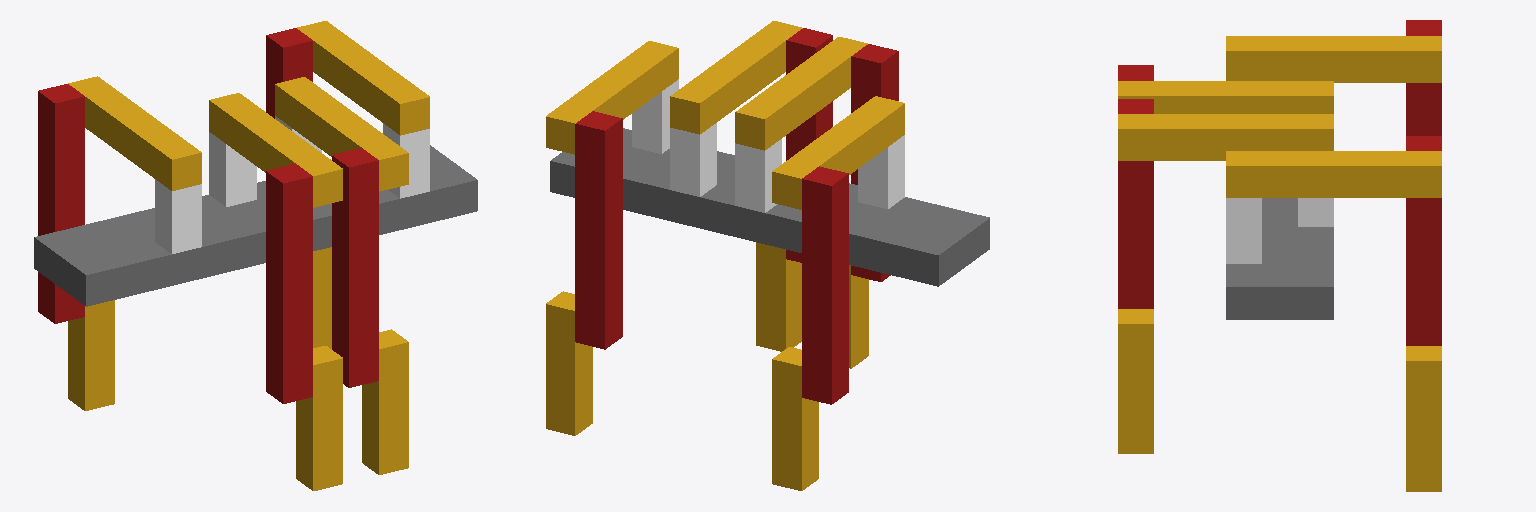
The robot description file, URDF, robot "v0":
<?xml version="1.0" encoding="utf-8"?>
<!-- =================================================================================== -->
<!-- |    This document was autogenerated by xacro from ../robots/v0variants/xacros/v0_4l_4.xacro | -->
<!-- |    EDITING THIS FILE BY HAND IS NOT RECOMMENDED                                 | -->
<!-- =================================================================================== -->
<robot name="v0">
  <material name="grey">
    <color rgba="0.5 0.5 0.5 1"/>
  </material>
  <material name="white">
    <color rgba="1 1 1 1"/>
  </material>
  <material name="yellow">
    <color rgba="0.91 0.7 0.14 1"/>
  </material>
  <material name="red">
    <color rgba="0.71 0.14 0.14 1"/>
  </material>
  <link name="body">
    <visual>
      <geometry>
        <box size="1.3 0.3 0.1"/>
      </geometry>
      <material name="grey"/>
      <origin rpy="0 0 0" xyz="0 0 0.7"/>
    </visual>
    <collision>
      <geometry>
        <box size="1.3 0.3 0.1"/>
      </geometry>
      <origin rpy="0 0 0" xyz="0 0 0.7"/>
    </collision>
    <inertial>
      <mass value="99.84"/>
      <inertia ixx="0.832" ixy="0.0" ixz="0.0" iyy="14.144" iyz="0.0" izz="14.8096"/>
    </inertial>
  </link>
  <link name="l1_segment_1">
    <visual>
      <geometry>
        <box size="0.1 0.1 0.2"/>
      </geometry>
      <material name="white"/>
      <origin rpy="0 0 0" xyz="0 0 0.1"/>
    </visual>
    <collision>
      <geometry>
        <box size="0.1 0.1 0.2"/>
      </geometry>
      <origin rpy="0 0 0" xyz="0 0 0.1"/>
    </collision>
    <inertial>
      <mass value="5.12"/>
      <inertia ixx="0.0213333333333" ixy="0.0" ixz="0.0" iyy="0.0213333333333" iyz="0.0" izz="0.00853333333333"/>
    </inertial>
  </link>
  <joint name="l1_base_to_joint_1" type="fixed">
    <parent link="body"/>
    <child link="l1_segment_1"/>
    <origin rpy="0 0 0" xyz="-0.3152770812458934 -0.1 0.75"/>
  </joint>
  <link name="l1_segment_2_HIP">
    <visual>
      <geometry>
        <box size="0.1 0.6 0.1"/>
      </geometry>
      <material name="yellow"/>
      <origin rpy="0 0 0" xyz="0 0.25 0"/>
    </visual>
    <collision>
      <geometry>
        <box size="0.1 0.6 0.1"/>
      </geometry>
      <origin rpy="0 0 0" xyz="0 0.25 0"/>
    </collision>
    <inertial>
      <mass value="15.36"/>
      <inertia ixx="0.4736" ixy="0.0" ixz="0.0" iyy="0.0256" iyz="0.0" izz="0.4736"/>
    </inertial>
  </link>
  <joint name="l1_joint_1_to_2" type="revolute">
    <parent link="l1_segment_1"/>
    <child link="l1_segment_2_HIP"/>
    <origin rpy="0 0 0" xyz="0 0 0.25"/>
    <axis xyz="0.0 0.0 1.0"/>
    <limit effort="2048" lower="-1.2" upper="1.2" velocity="20"/>
  </joint>
  <link name="l1_segment_3_THIGH">
    <visual>
      <geometry>
        <box size="0.1 0.1 0.7"/>
      </geometry>
      <material name="red"/>
      <origin rpy="0 0 0" xyz="0 0 -0.3"/>
    </visual>
    <collision>
      <geometry>
        <box size="0.1 0.1 0.7"/>
      </geometry>
      <origin rpy="0 0 0" xyz="0 0 -0.3"/>
    </collision>
    <inertial>
      <mass value="17.92"/>
      <inertia ixx="0.746666666667" ixy="0.0" ixz="0.0" iyy="0.746666666667" iyz="0.0" izz="0.0298666666667"/>
    </inertial>
  </link>
  <joint name="l1_joint_2_to_3" type="revolute">
    <parent link="l1_segment_2_HIP"/>
    <child link="l1_segment_3_THIGH"/>
    <origin rpy="0 0 0" xyz="-0.1 0.5 0"/>
    <axis xyz="1.0 0.0 0.0"/>
    <limit effort="2048" lower="-0.2" upper="0.75" velocity="20"/>
  </joint>
  <link name="l1_segment_4_FOOT">
    <visual>
      <geometry>
        <box size="0.1 0.1 0.4"/>
      </geometry>
      <material name="yellow"/>
      <origin rpy="0 0 0" xyz="0 0 -0.2"/>
    </visual>
    <collision>
      <geometry>
        <box size="0.1 0.1 0.4"/>
      </geometry>
      <origin rpy="0 0 0" xyz="0 0 -0.2"/>
    </collision>
    <inertial>
      <mass value="10.24"/>
      <inertia ixx="0.145066666667" ixy="0.0" ixz="0.0" iyy="0.145066666667" iyz="0.0" izz="0.0170666666667"/>
    </inertial>
  </link>
  <joint name="l1_joint_3_to_4_FOOT" type="revolute">
    <parent link="l1_segment_3_THIGH"/>
    <child link="l1_segment_4_FOOT"/>
    <origin rpy="0 0 0" xyz="0.1 0 -0.55"/>
    <axis xyz="1.0 0.0 0.0"/>
    <limit effort="2048" lower="-0.2" upper="0.5" velocity="20"/>
  </joint>
  <link name="r2_segment_1">
    <visual>
      <geometry>
        <box size="0.1 0.1 0.2"/>
      </geometry>
      <material name="white"/>
      <origin rpy="0 0 0" xyz="0 0 0.1"/>
    </visual>
    <collision>
      <geometry>
        <box size="0.1 0.1 0.2"/>
      </geometry>
      <origin rpy="0 0 0" xyz="0 0 0.1"/>
    </collision>
    <inertial>
      <mass value="5.12"/>
      <inertia ixx="0.0213333333333" ixy="0.0" ixz="0.0" iyy="0.0213333333333" iyz="0.0" izz="0.00853333333333"/>
    </inertial>
  </link>
  <joint name="r2_base_to_joint_1" type="fixed">
    <parent link="body"/>
    <child link="r2_segment_1"/>
    <origin rpy="0 0 0" xyz="-0.01938039732106936 0.1 0.75"/>
  </joint>
  <link name="r2_segment_2_HIP">
    <visual>
      <geometry>
        <box size="0.1 0.6 0.1"/>
      </geometry>
      <material name="yellow"/>
      <origin rpy="0 0 0" xyz="0 -0.25 0"/>
    </visual>
    <collision>
      <geometry>
        <box size="0.1 0.6 0.1"/>
      </geometry>
      <origin rpy="0 0 0" xyz="0 -0.25 0"/>
    </collision>
    <inertial>
      <mass value="15.36"/>
      <inertia ixx="0.4736" ixy="0.0" ixz="0.0" iyy="0.0256" iyz="0.0" izz="0.4736"/>
    </inertial>
  </link>
  <joint name="r2_joint_1_to_2" type="revolute">
    <parent link="r2_segment_1"/>
    <child link="r2_segment_2_HIP"/>
    <origin rpy="0 0 0" xyz="0 0 0.25"/>
    <axis xyz="0.0 0.0 1.0"/>
    <limit effort="2048" lower="-1.2" upper="1.2" velocity="20"/>
  </joint>
  <link name="r2_segment_3_THIGH">
    <visual>
      <geometry>
        <box size="0.1 0.1 0.7"/>
      </geometry>
      <material name="red"/>
      <origin rpy="0 0 0" xyz="0 0 -0.3"/>
    </visual>
    <collision>
      <geometry>
        <box size="0.1 0.1 0.7"/>
      </geometry>
      <origin rpy="0 0 0" xyz="0 0 -0.3"/>
    </collision>
    <inertial>
      <mass value="17.92"/>
      <inertia ixx="0.746666666667" ixy="0.0" ixz="0.0" iyy="0.746666666667" iyz="0.0" izz="0.0298666666667"/>
    </inertial>
  </link>
  <joint name="r2_joint_2_to_3" type="revolute">
    <parent link="r2_segment_2_HIP"/>
    <child link="r2_segment_3_THIGH"/>
    <origin rpy="0 0 0" xyz="-0.1 -0.5 0"/>
    <axis xyz="1.0 0.0 0.0"/>
    <limit effort="2048" lower="-0.75" upper="0.2" velocity="20"/>
  </joint>
  <link name="r2_segment_4_FOOT">
    <visual>
      <geometry>
        <box size="0.1 0.1 0.4"/>
      </geometry>
      <material name="yellow"/>
      <origin rpy="0 0 0" xyz="0 0 -0.2"/>
    </visual>
    <collision>
      <geometry>
        <box size="0.1 0.1 0.4"/>
      </geometry>
      <origin rpy="0 0 0" xyz="0 0 -0.2"/>
    </collision>
    <inertial>
      <mass value="10.24"/>
      <inertia ixx="0.145066666667" ixy="0.0" ixz="0.0" iyy="0.145066666667" iyz="0.0" izz="0.0170666666667"/>
    </inertial>
  </link>
  <joint name="r2_joint_3_to_4_FOOT" type="revolute">
    <parent link="r2_segment_3_THIGH"/>
    <child link="r2_segment_4_FOOT"/>
    <origin rpy="0 0 0" xyz="0.1 0 -0.55"/>
    <axis xyz="1.0 0.0 0.0"/>
    <limit effort="2048" lower="-0.5" upper="0.2" velocity="20"/>
  </joint>
  <link name="l3_segment_1">
    <visual>
      <geometry>
        <box size="0.1 0.1 0.2"/>
      </geometry>
      <material name="white"/>
      <origin rpy="0 0 0" xyz="0 0 0.1"/>
    </visual>
    <collision>
      <geometry>
        <box size="0.1 0.1 0.2"/>
      </geometry>
      <origin rpy="0 0 0" xyz="0 0 0.1"/>
    </collision>
    <inertial>
      <mass value="5.12"/>
      <inertia ixx="0.0213333333333" ixy="0.0" ixz="0.0" iyy="0.0213333333333" iyz="0.0" izz="0.00853333333333"/>
    </inertial>
  </link>
  <joint name="l3_base_to_joint_1" type="fixed">
    <parent link="body"/>
    <child link="l3_segment_1"/>
    <origin rpy="0 0 0" xyz="0.4427482290436767 -0.1 0.75"/>
  </joint>
  <link name="l3_segment_2_HIP">
    <visual>
      <geometry>
        <box size="0.1 0.6 0.1"/>
      </geometry>
      <material name="yellow"/>
      <origin rpy="0 0 0" xyz="0 0.25 0"/>
    </visual>
    <collision>
      <geometry>
        <box size="0.1 0.6 0.1"/>
      </geometry>
      <origin rpy="0 0 0" xyz="0 0.25 0"/>
    </collision>
    <inertial>
      <mass value="15.36"/>
      <inertia ixx="0.4736" ixy="0.0" ixz="0.0" iyy="0.0256" iyz="0.0" izz="0.4736"/>
    </inertial>
  </link>
  <joint name="l3_joint_1_to_2" type="revolute">
    <parent link="l3_segment_1"/>
    <child link="l3_segment_2_HIP"/>
    <origin rpy="0 0 0" xyz="0 0 0.25"/>
    <axis xyz="0.0 0.0 1.0"/>
    <limit effort="2048" lower="-1.2" upper="1.2" velocity="20"/>
  </joint>
  <link name="l3_segment_3_THIGH">
    <visual>
      <geometry>
        <box size="0.1 0.1 0.7"/>
      </geometry>
      <material name="red"/>
      <origin rpy="0 0 0" xyz="0 0 -0.3"/>
    </visual>
    <collision>
      <geometry>
        <box size="0.1 0.1 0.7"/>
      </geometry>
      <origin rpy="0 0 0" xyz="0 0 -0.3"/>
    </collision>
    <inertial>
      <mass value="17.92"/>
      <inertia ixx="0.746666666667" ixy="0.0" ixz="0.0" iyy="0.746666666667" iyz="0.0" izz="0.0298666666667"/>
    </inertial>
  </link>
  <joint name="l3_joint_2_to_3" type="revolute">
    <parent link="l3_segment_2_HIP"/>
    <child link="l3_segment_3_THIGH"/>
    <origin rpy="0 0 0" xyz="-0.1 0.5 0"/>
    <axis xyz="1.0 0.0 0.0"/>
    <limit effort="2048" lower="-0.2" upper="0.75" velocity="20"/>
  </joint>
  <link name="l3_segment_4_FOOT">
    <visual>
      <geometry>
        <box size="0.1 0.1 0.4"/>
      </geometry>
      <material name="yellow"/>
      <origin rpy="0 0 0" xyz="0 0 -0.2"/>
    </visual>
    <collision>
      <geometry>
        <box size="0.1 0.1 0.4"/>
      </geometry>
      <origin rpy="0 0 0" xyz="0 0 -0.2"/>
    </collision>
    <inertial>
      <mass value="10.24"/>
      <inertia ixx="0.145066666667" ixy="0.0" ixz="0.0" iyy="0.145066666667" iyz="0.0" izz="0.0170666666667"/>
    </inertial>
  </link>
  <joint name="l3_joint_3_to_4_FOOT" type="revolute">
    <parent link="l3_segment_3_THIGH"/>
    <child link="l3_segment_4_FOOT"/>
    <origin rpy="0 0 0" xyz="0.1 0 -0.55"/>
    <axis xyz="1.0 0.0 0.0"/>
    <limit effort="2048" lower="-0.2" upper="0.5" velocity="20"/>
  </joint>
  <link name="r4_segment_1">
    <visual>
      <geometry>
        <box size="0.1 0.1 0.2"/>
      </geometry>
      <material name="white"/>
      <origin rpy="0 0 0" xyz="0 0 0.1"/>
    </visual>
    <collision>
      <geometry>
        <box size="0.1 0.1 0.2"/>
      </geometry>
      <origin rpy="0 0 0" xyz="0 0 0.1"/>
    </collision>
    <inertial>
      <mass value="5.12"/>
      <inertia ixx="0.0213333333333" ixy="0.0" ixz="0.0" iyy="0.0213333333333" iyz="0.0" izz="0.00853333333333"/>
    </inertial>
  </link>
  <joint name="r4_base_to_joint_1" type="fixed">
    <parent link="body"/>
    <child link="r4_segment_1"/>
    <origin rpy="0 0 0" xyz="0.19867070315270777 0.1 0.75"/>
  </joint>
  <link name="r4_segment_2_HIP">
    <visual>
      <geometry>
        <box size="0.1 0.6 0.1"/>
      </geometry>
      <material name="yellow"/>
      <origin rpy="0 0 0" xyz="0 -0.25 0"/>
    </visual>
    <collision>
      <geometry>
        <box size="0.1 0.6 0.1"/>
      </geometry>
      <origin rpy="0 0 0" xyz="0 -0.25 0"/>
    </collision>
    <inertial>
      <mass value="15.36"/>
      <inertia ixx="0.4736" ixy="0.0" ixz="0.0" iyy="0.0256" iyz="0.0" izz="0.4736"/>
    </inertial>
  </link>
  <joint name="r4_joint_1_to_2" type="revolute">
    <parent link="r4_segment_1"/>
    <child link="r4_segment_2_HIP"/>
    <origin rpy="0 0 0" xyz="0 0 0.25"/>
    <axis xyz="0.0 0.0 1.0"/>
    <limit effort="2048" lower="-1.2" upper="1.2" velocity="20"/>
  </joint>
  <link name="r4_segment_3_THIGH">
    <visual>
      <geometry>
        <box size="0.1 0.1 0.7"/>
      </geometry>
      <material name="red"/>
      <origin rpy="0 0 0" xyz="0 0 -0.3"/>
    </visual>
    <collision>
      <geometry>
        <box size="0.1 0.1 0.7"/>
      </geometry>
      <origin rpy="0 0 0" xyz="0 0 -0.3"/>
    </collision>
    <inertial>
      <mass value="17.92"/>
      <inertia ixx="0.746666666667" ixy="0.0" ixz="0.0" iyy="0.746666666667" iyz="0.0" izz="0.0298666666667"/>
    </inertial>
  </link>
  <joint name="r4_joint_2_to_3" type="revolute">
    <parent link="r4_segment_2_HIP"/>
    <child link="r4_segment_3_THIGH"/>
    <origin rpy="0 0 0" xyz="-0.1 -0.5 0"/>
    <axis xyz="1.0 0.0 0.0"/>
    <limit effort="2048" lower="-0.75" upper="0.2" velocity="20"/>
  </joint>
  <link name="r4_segment_4_FOOT">
    <visual>
      <geometry>
        <box size="0.1 0.1 0.4"/>
      </geometry>
      <material name="yellow"/>
      <origin rpy="0 0 0" xyz="0 0 -0.2"/>
    </visual>
    <collision>
      <geometry>
        <box size="0.1 0.1 0.4"/>
      </geometry>
      <origin rpy="0 0 0" xyz="0 0 -0.2"/>
    </collision>
    <inertial>
      <mass value="10.24"/>
      <inertia ixx="0.145066666667" ixy="0.0" ixz="0.0" iyy="0.145066666667" iyz="0.0" izz="0.0170666666667"/>
    </inertial>
  </link>
  <joint name="r4_joint_3_to_4_FOOT" type="revolute">
    <parent link="r4_segment_3_THIGH"/>
    <child link="r4_segment_4_FOOT"/>
    <origin rpy="0 0 0" xyz="0.1 0 -0.55"/>
    <axis xyz="1.0 0.0 0.0"/>
    <limit effort="2048" lower="-0.5" upper="0.2" velocity="20"/>
  </joint>
</robot>

--- Facts derived from the render (not from the file) ---
3 views of the same robot in one strip: view 1: azimuth 30°, elevation 25°; view 2: azimuth 150°, elevation 25°; view 3: azimuth 270°, elevation 25° (orthographic).
Model v0 with 17 links and 16 joints (12 revolute, 4 fixed), rooted at body, posed every joint at zero.
Links seen in each view (by area): view 1: body, r2_segment_3_THIGH, r4_segment_3_THIGH, l1_segment_3_THIGH, l3_segment_2_HIP, l1_segment_2_HIP, r2_segment_2_HIP, r4_segment_2_HIP, r2_segment_4_FOOT, r4_segment_4_FOOT, l1_segment_4_FOOT, l1_segment_1 (+4 smaller); view 2: body, l3_segment_3_THIGH, l1_segment_3_THIGH, r2_segment_2_HIP, r4_segment_2_HIP, l1_segment_2_HIP, l3_segment_2_HIP, l1_segment_4_FOOT, l3_segment_4_FOOT, r4_segment_4_FOOT, r2_segment_3_THIGH, r4_segment_1 (+5 smaller); view 3: l3_segment_2_HIP, l1_segment_2_HIP, body, r4_segment_2_HIP, r2_segment_2_HIP, l3_segment_3_THIGH, r4_segment_3_THIGH, l3_segment_4_FOOT, r4_segment_4_FOOT, l1_segment_3_THIGH, l3_segment_1, r4_segment_1 (+1 smaller).
Link boxes in pixels (x1,y1,x2,y2): body: [34, 145, 477, 306]; r2_segment_3_THIGH: [266, 164, 312, 403]; r4_segment_3_THIGH: [332, 148, 378, 387]; l1_segment_3_THIGH: [38, 84, 84, 323]; l3_segment_2_HIP: [297, 21, 429, 135]; l1_segment_2_HIP: [68, 76, 201, 190]; r2_segment_2_HIP: [209, 93, 342, 207]; r4_segment_2_HIP: [275, 77, 408, 191]; r2_segment_4_FOOT: [296, 346, 342, 490]; r4_segment_4_FOOT: [362, 329, 408, 474]; l1_segment_4_FOOT: [68, 300, 114, 410]; l1_segment_1: [155, 179, 201, 253]; body: [550, 128, 989, 286]; l3_segment_3_THIGH: [575, 111, 622, 349]; l1_segment_3_THIGH: [802, 166, 848, 404]; r2_segment_2_HIP: [735, 37, 867, 150]; r4_segment_2_HIP: [670, 21, 802, 134]; l1_segment_2_HIP: [772, 96, 904, 209]; l3_segment_2_HIP: [546, 41, 678, 154]; l1_segment_4_FOOT: [772, 347, 818, 490]; l3_segment_4_FOOT: [546, 291, 592, 435]; r4_segment_4_FOOT: [756, 242, 801, 351]; r2_segment_3_THIGH: [851, 44, 898, 281]; r4_segment_1: [670, 123, 716, 196]; l3_segment_2_HIP: [1226, 151, 1441, 197]; l1_segment_2_HIP: [1226, 36, 1441, 82]; body: [1226, 198, 1333, 319]; r4_segment_2_HIP: [1118, 114, 1333, 160]; r2_segment_2_HIP: [1118, 81, 1333, 113]; l3_segment_3_THIGH: [1406, 136, 1441, 345]; r4_segment_3_THIGH: [1118, 99, 1153, 308]; l3_segment_4_FOOT: [1406, 346, 1441, 491]; r4_segment_4_FOOT: [1118, 309, 1153, 453]; l1_segment_3_THIGH: [1406, 20, 1441, 135]; l3_segment_1: [1226, 198, 1261, 263]; r4_segment_1: [1298, 198, 1333, 226].
Size in the robot's own frame: 1.3 by 0.9 by 1 metres.
Geometry: primitives only (box / cylinder / sphere), no mesh files.